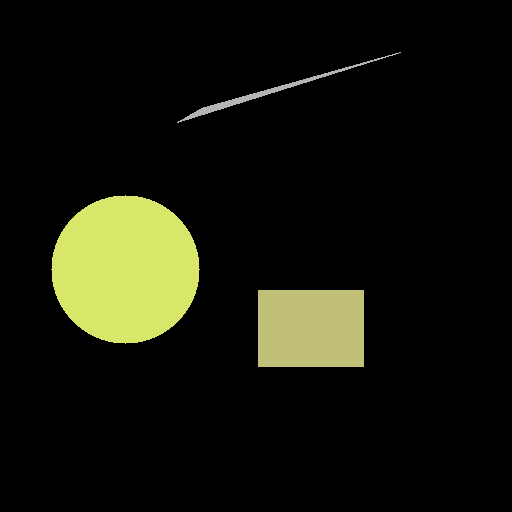circle: (51, 195, 199, 343)
rectangle: (258, 290, 363, 366)
